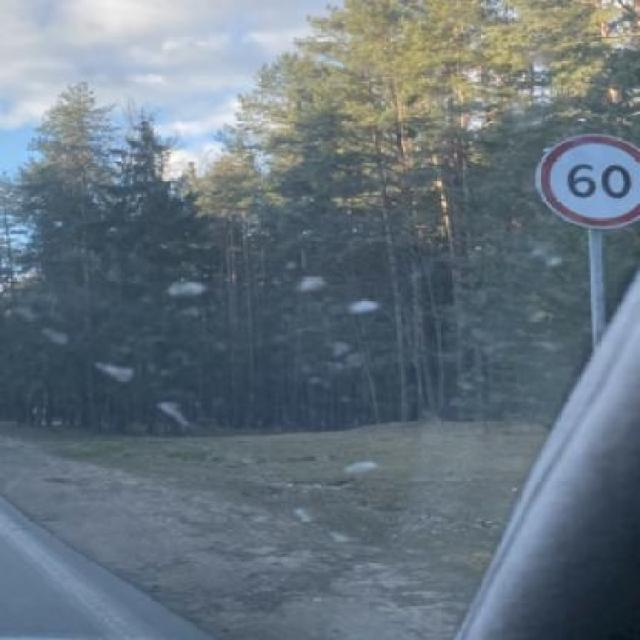forb_speed_over_60: (534, 135, 640, 224)
